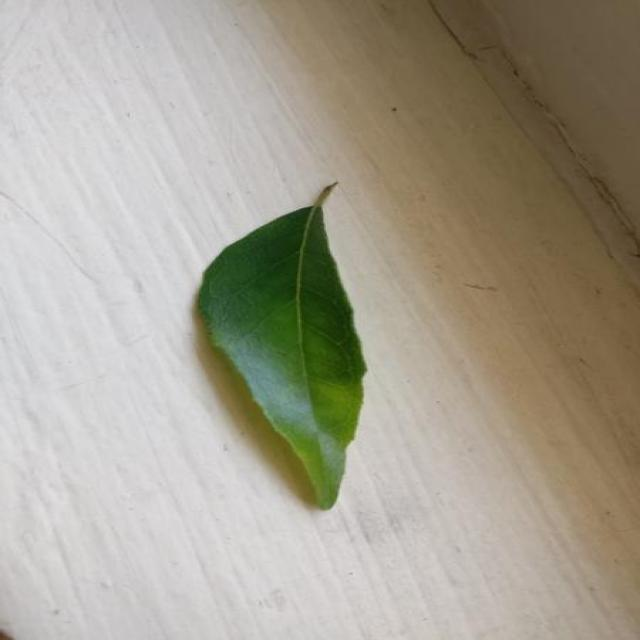curry: (198, 184, 365, 508)
